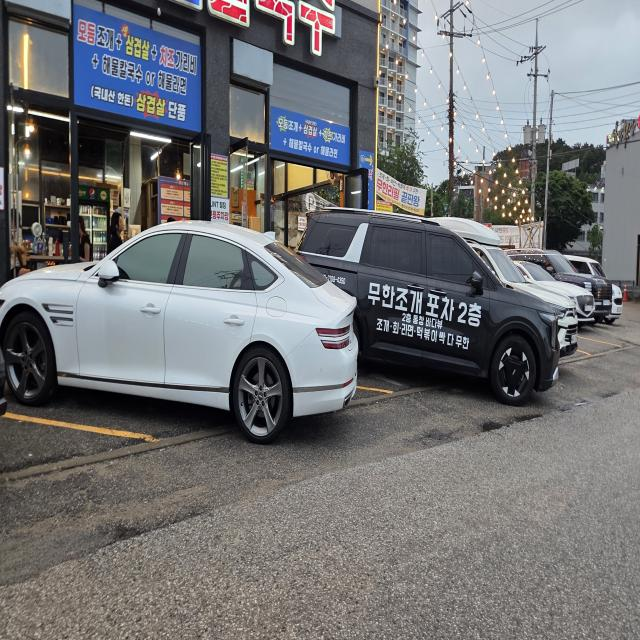car: (0, 198, 370, 465), (290, 174, 566, 434), (510, 235, 613, 328)
